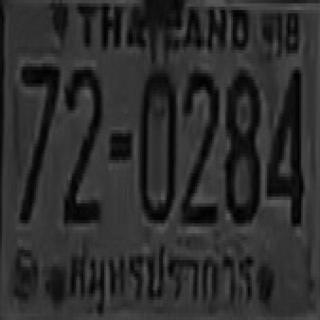N00: (138, 68, 174, 222)
N02: (180, 68, 218, 222), (63, 65, 100, 222)
N04: (265, 67, 303, 223)
N07: (19, 60, 59, 220)
N08: (223, 68, 260, 222)
P57: (63, 233, 257, 313)
